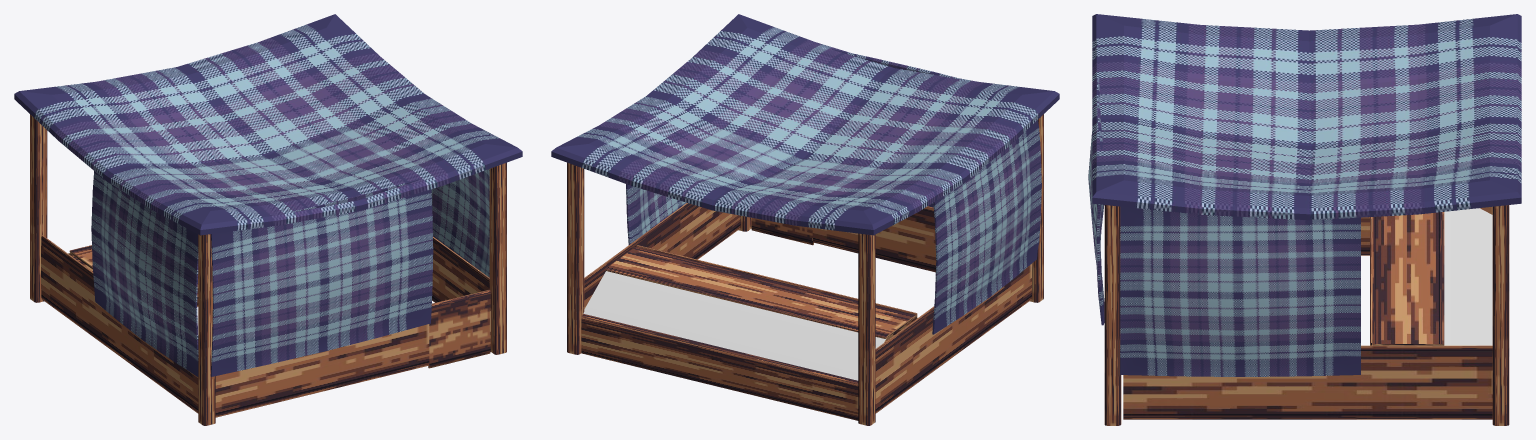
File: Exterior_Tent.fbx
3 views of the same model, side by side, from view 1: azimuth 30°, elevation 25°; view 2: azimuth 150°, elevation 25°; view 3: azimuth 270°, elevation 25° (orthographic). The views are drawn at different scales.
Visible parts, largest first — view 1: Exterior_Tent1, Wall_Tent_2, Wall_Tent_3, Wall_Tent_1, Tent_Backdoor; view 2: Exterior_Tent1, Wall_Tent_3, Wall_Tent_1, Tent_Backdoor, Wall_Tent_2; view 3: Exterior_Tent1, Wall_Tent_1, Wall_Tent_2.
Boxes of the visible parts, box(x1,y1,x2,y2) form: Exterior_Tent1: box(14, 14, 522, 425); Wall_Tent_2: box(210, 179, 433, 376); Wall_Tent_3: box(91, 171, 198, 376); Wall_Tent_1: box(431, 169, 489, 277); Tent_Backdoor: box(428, 289, 490, 368); Exterior_Tent1: box(551, 14, 1059, 425); Wall_Tent_3: box(932, 120, 1041, 334); Wall_Tent_1: box(626, 184, 686, 244); Tent_Backdoor: box(751, 218, 813, 245); Wall_Tent_2: box(832, 49, 961, 207); Exterior_Tent1: box(1092, 14, 1521, 425); Wall_Tent_1: box(1120, 206, 1360, 376); Wall_Tent_2: box(1088, 77, 1104, 325).
Size of the model in its own units: 2.96 by 1.8 by 2.98.
